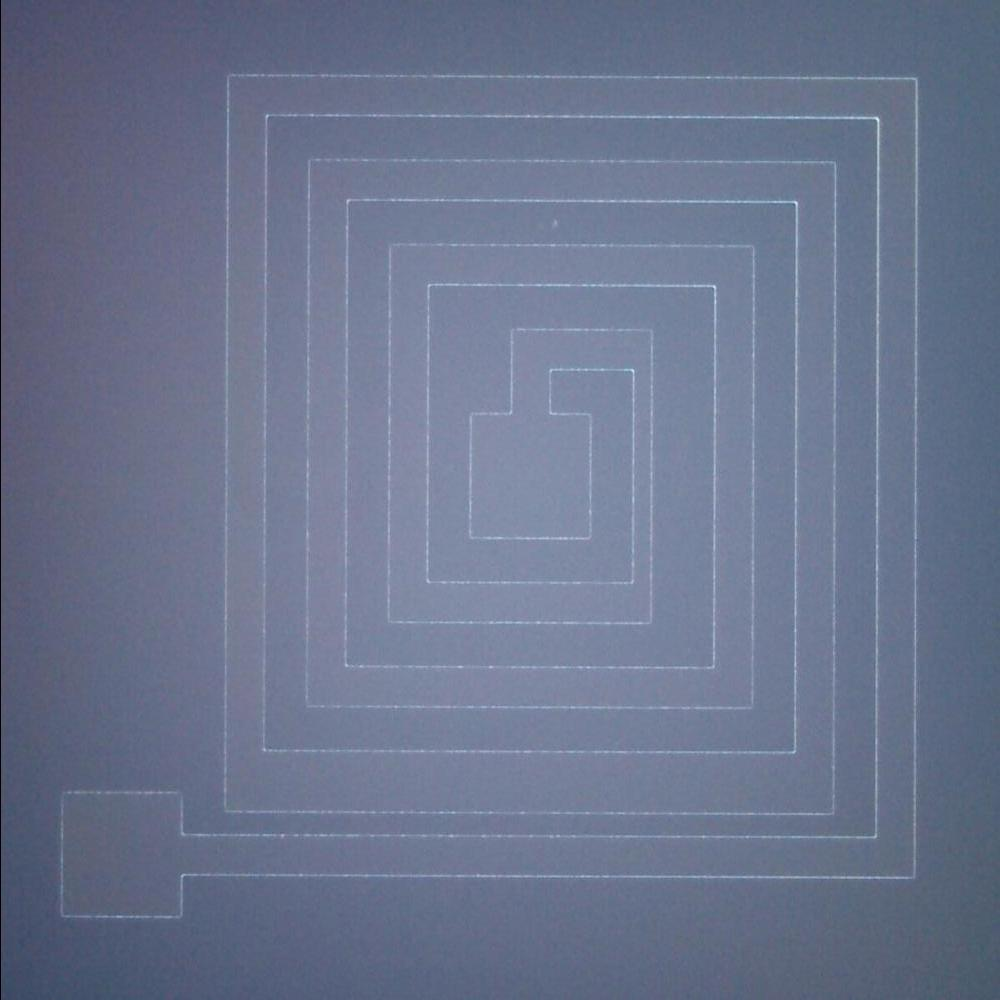fat circuit: (202, 735, 852, 826)
thin circuit: (616, 310, 667, 638)
